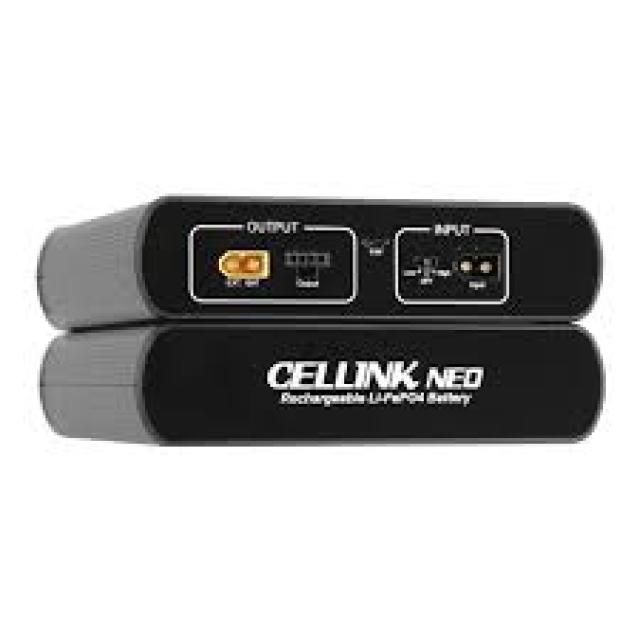portable-charger: (31, 192, 610, 324), (35, 329, 612, 451)
